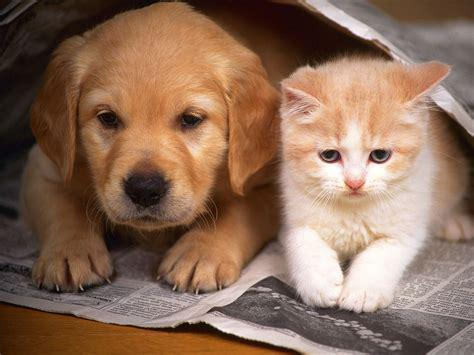cat: (281, 59, 472, 311)
dog: (20, 1, 279, 291)
